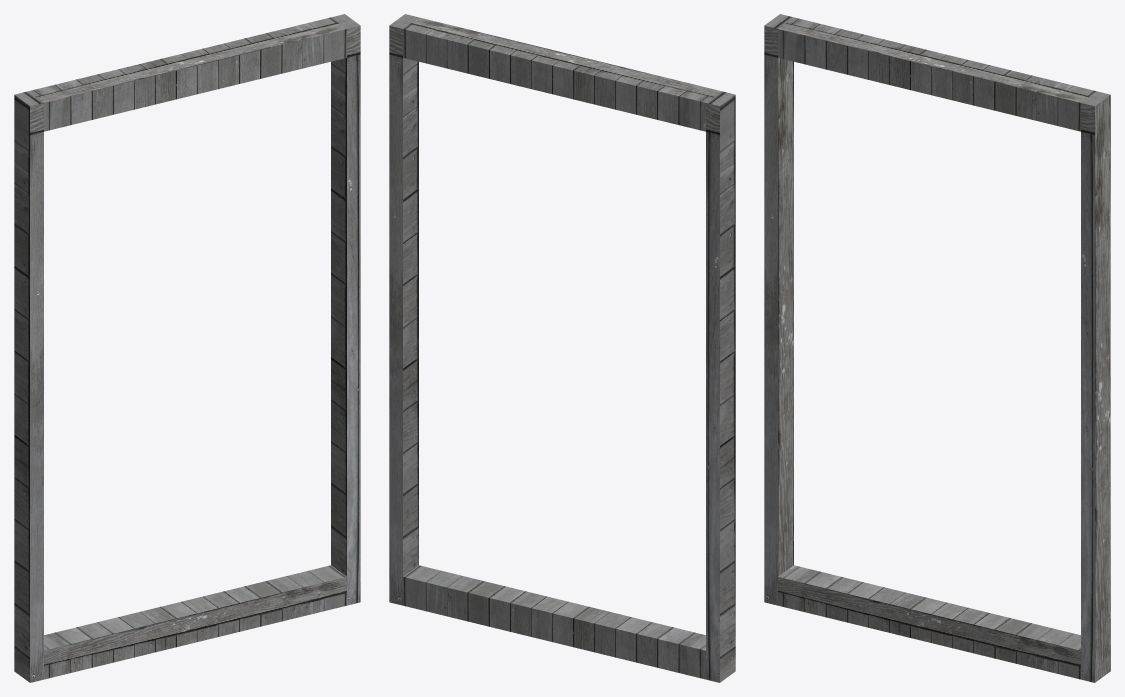
Rendered from walls.obj.
The picture shows the model from 3 angles, left to right: view 1: azimuth 30°, elevation 25°; view 2: azimuth 150°, elevation 25°; view 3: azimuth 330°, elevation 25°; orthographic projection.
Parts seen in each view (by area): view 1: Left_Cube, Right_Cube, Upper_Cube, Lower_Cube; view 2: Left_Cube, Right_Cube, Upper_Cube, Lower_Cube; view 3: Right_Cube, Left_Cube, Upper_Cube, Lower_Cube.
Boxes of the visible parts, <box> form: Left_Cube: <box>14,91,43,682</box>; Right_Cube: <box>331,14,360,605</box>; Upper_Cube: <box>28,17,346,131</box>; Lower_Cube: <box>44,565,346,679</box>; Left_Cube: <box>706,91,735,682</box>; Right_Cube: <box>389,14,418,605</box>; Upper_Cube: <box>403,17,721,131</box>; Lower_Cube: <box>403,565,705,679</box>; Right_Cube: <box>1081,91,1110,682</box>; Left_Cube: <box>764,14,793,605</box>; Upper_Cube: <box>778,17,1096,131</box>; Lower_Cube: <box>778,565,1080,679</box>.
Bounding box in the file's own units: 6 × 10 × 0.5.
Materials: 1 (1 with a texture image).
